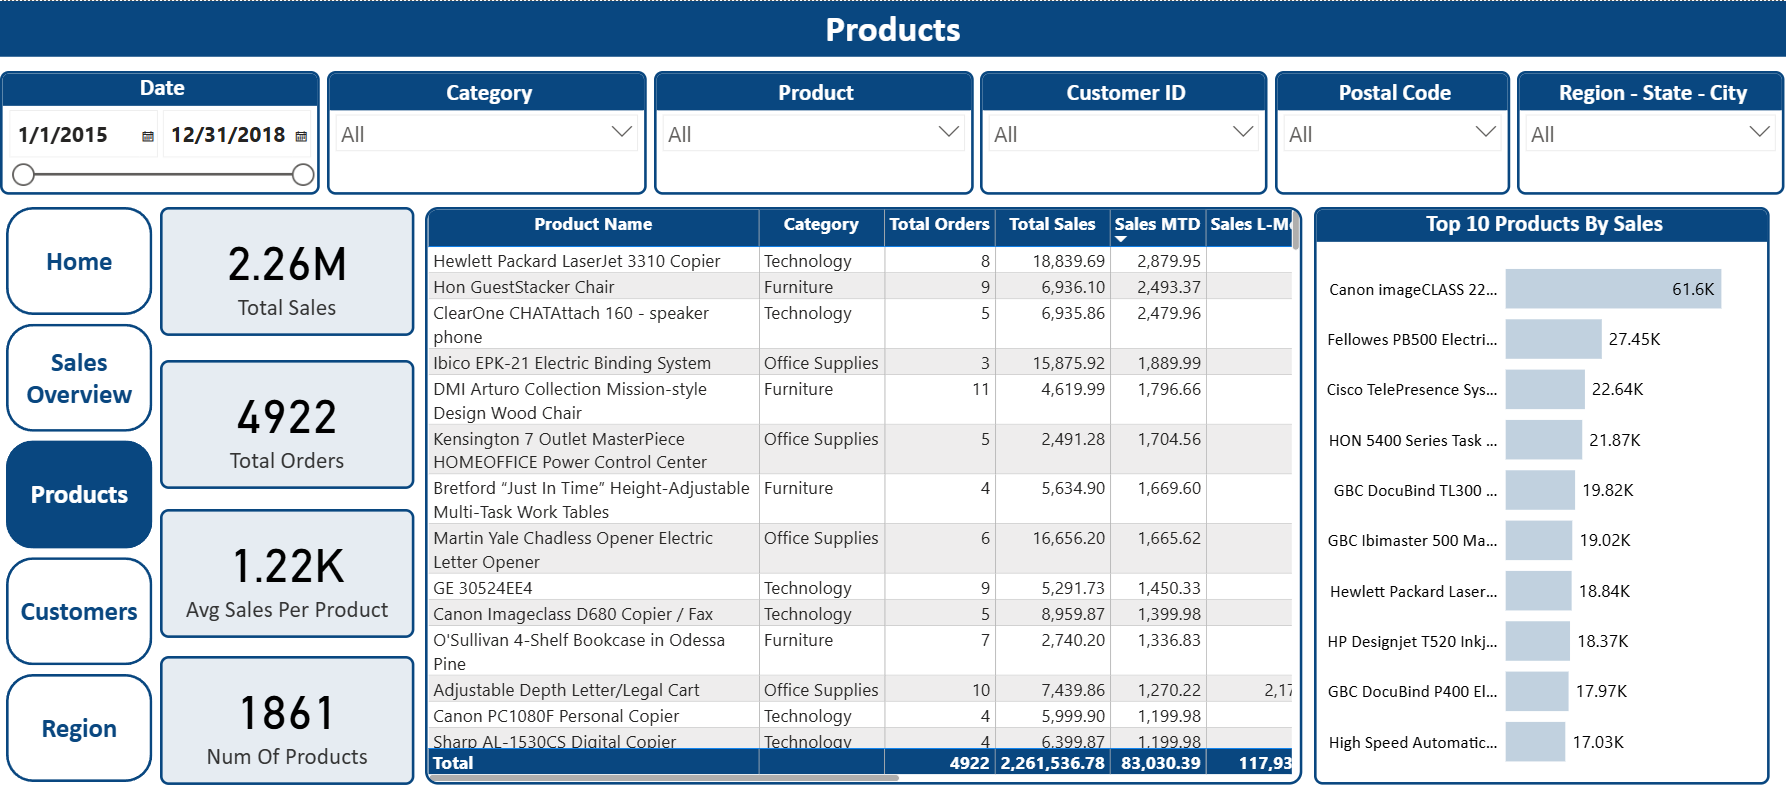

This screenshot's page, from the dashboard's own definition file:
{"tool":"powerbi","page":{"name":"Products","canvas":[2050,920],"ordinal":2},"visuals":[{"type":"textbox","box":[0,0,2050,64.5],"z":0},{"type":"slicer","title":"Category","fields":{"Values":["Dim Product.Category"]},"box":[375,80,366.7,141.7],"z":1000},{"type":"slicer","title":"Product","fields":{"Values":["Dim Product.Product Name"]},"box":[750.7,80,366.7,141.7],"z":2000},{"type":"slicer","title":"Customer ID","fields":{"Values":["Dim Customer.Customer ID"]},"box":[1125,80,330,141.7],"z":3000},{"type":"slicer","title":"Postal Code","fields":{"Values":["Dim Region.Postal Code"]},"box":[1463.3,80,270,141.7],"z":4000},{"type":"slicer","title":"Region - State - City","fields":{"Values":["Dim Region.State","Dim Region.City"]},"box":[1741.7,80,306.7,141.7],"z":5000},{"type":"card","fields":{"Values":["Measure.Total Sales"]},"box":[183.3,236.6,291.7,148.3],"z":6000},{"type":"card","fields":{"Values":["Measure.Num Of Orders"]},"box":[183.3,411.6,291.7,148.3],"z":7000},{"type":"barChart","title":"Top 10 Products By Sales","fields":{"Y":["Measure.Total Sales"],"Category":["Dim Product.Product Name"]},"box":[1508.3,236.7,523.3,663.3],"z":8000},{"type":"card","fields":{"Values":["Measure.Avg Sales Per Product"]},"box":[183.3,583.3,291.7,148.3],"z":9000},{"type":"card","fields":{"Values":["Measure.Num Of Products"]},"box":[183.3,751.7,291.7,148.3],"z":10000},{"type":"tableEx","fields":{"Values":["Dim Product.Product Name","Dim Product.Category","Measure.Total Orders","Measure.Total Sales","Measure.Sales MTD","Measure.Sales L-Month","Measure.Sales MTD vs LM %","Measure.Sales YTD","Measure.Sales YAGO","Measure.Sales YTD vs YAGO %","Measure.Sales YTD Var"]},"box":[488.3,236.7,1006.7,663.3],"z":11000},{"type":"pageNavigator","box":[6.7,236.7,168.3,663.3],"z":12000},{"type":"slicer","title":"Date","fields":{"Values":["Date.Date"]},"box":[0,80,366.7,141.7],"z":13000}]}

Visuals, with their boxes in screenshot pixels (x1, y1, x2, y2), scaled from the page's 2050x920 canvas onto the 1786x799 screenshot:
textbox: 0, 0, 1785, 56
"Category" slicer: 327, 69, 646, 193
"Product" slicer: 654, 69, 974, 193
"Customer ID" slicer: 980, 69, 1268, 193
"Postal Code" slicer: 1275, 69, 1510, 193
"Region - State - City" slicer: 1517, 69, 1785, 193
card - Measure.Total Sales: 160, 205, 414, 334
card - Measure.Num Of Orders: 160, 357, 414, 486
"Top 10 Products By Sales" barChart: 1314, 206, 1770, 782
card - Measure.Avg Sales Per Product: 160, 507, 414, 635
card - Measure.Num Of Products: 160, 653, 414, 782
tableEx - Dim Product.Product Name x Dim Product.Category: 425, 206, 1302, 782
pageNavigator: 6, 206, 152, 782
"Date" slicer: 0, 69, 319, 193
